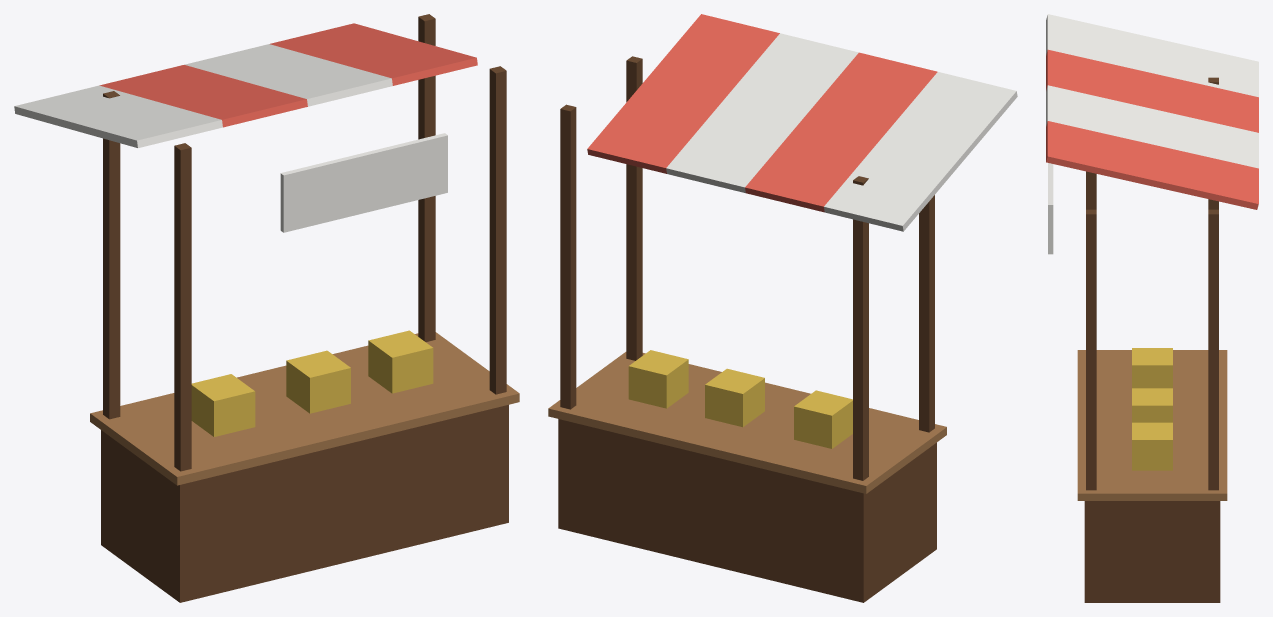
File: prop.market-stall.glb
3 views of the same model, side by side, from view 1: azimuth 30°, elevation 25°; view 2: azimuth 150°, elevation 25°; view 3: azimuth 270°, elevation 25° (orthographic). The views are drawn at different scales.
Visible parts, largest first — view 1: prop.market-stall; view 2: prop.market-stall; view 3: prop.market-stall.
Boxes of the visible parts, x1,y1,x2,y2 form: prop.market-stall: [14, 14, 519, 602]; prop.market-stall: [548, 14, 1017, 602]; prop.market-stall: [1046, 14, 1258, 602].
Bounding box in the file's own units: 2.92 × 3.44 × 1.56.
